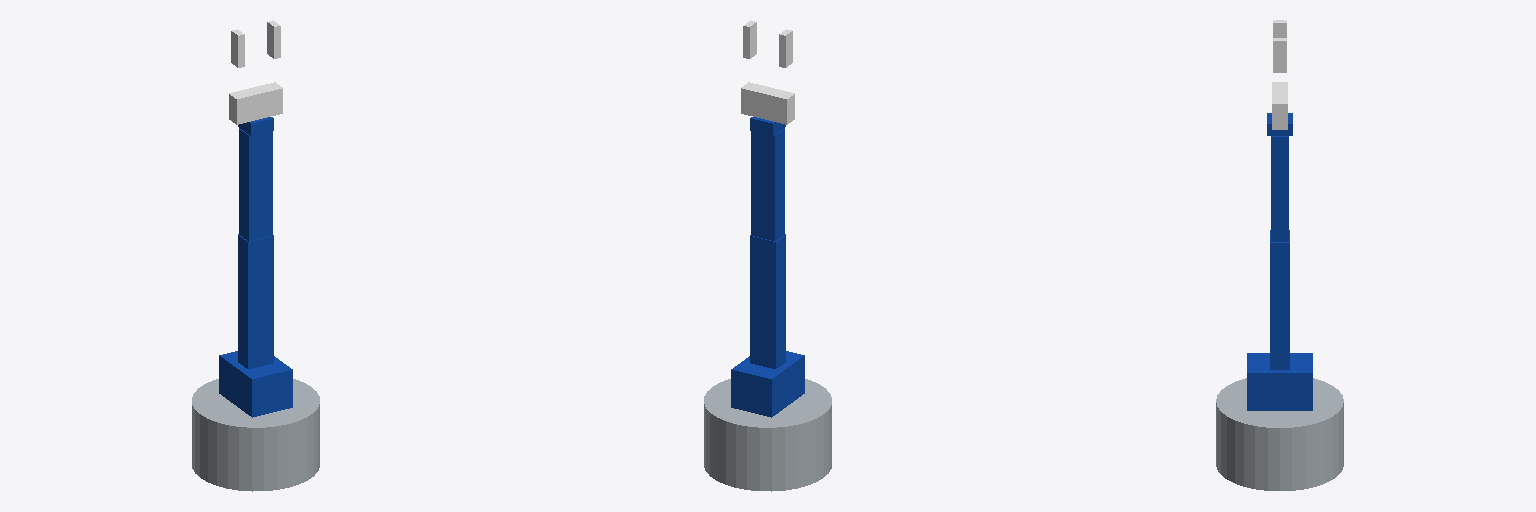
robot.urdf — servo_kol:
<?xml version="1.0"?>
<!-- urdf_uret.py ile üretildi; elle düzenleme. Ölçü ve kütleler TAHMİN. -->
<robot name="servo_kol">
  <material name="mavi"><color rgba="0.12 0.37 0.75 1"/></material>
  <material name="gri"><color rgba="0.73 0.76 0.78 1"/></material>
  <material name="beyaz"><color rgba="0.94 0.94 0.94 1"/></material>
  <material name="turuncu"><color rgba="0.85 0.4 0.1 1"/></material>

  <link name="taban">
    <visual>
      <origin xyz="0 0 0.03" rpy="0 0 0"/>
      <geometry><cylinder radius="0.055" length="0.06"/></geometry>
      <material name="gri"/>
    </visual>
    <collision>
      <origin xyz="0 0 0.03" rpy="0 0 0"/>
      <geometry><box size="0.11 0.11 0.06"/></geometry>
    </collision>
    <inertial>
      <origin xyz="0 0 0.03" rpy="0 0 0"/>
      <mass value="0.2"/>
      <inertia ixx="0.000261667" ixy="0" ixz="0" iyy="0.000261667" iyz="0" izz="0.000403333"/>
    </inertial>
  </link>

  <joint name="j1_govde" type="revolute">
    <parent link="taban"/>
    <child link="govde"/>
    <origin xyz="0 0 0" rpy="0 0 0"/>
    <axis xyz="0 0 1"/>
    <limit lower="-1.5708" upper="1.5708" effort="0.921825" velocity="1.16355"/>
  </joint>

  <link name="govde">
    <visual>
      <origin xyz="0 0 0.078" rpy="0 0 0"/>
      <geometry><box size="0.04 0.056 0.036"/></geometry>
      <material name="mavi"/>
    </visual>
    <collision>
      <origin xyz="0 0 0.078" rpy="0 0 0"/>
      <geometry><box size="0.04 0.056 0.036"/></geometry>
    </collision>
    <inertial>
      <origin xyz="0 0 0.078" rpy="0 0 0"/>
      <mass value="0.105"/>
      <inertia ixx="3.878e-05" ixy="0" ixz="0" iyy="2.534e-05" iyz="0" izz="4.144e-05"/>
    </inertial>
  </link>

  <joint name="j2_omuz" type="revolute">
    <parent link="govde"/>
    <child link="ust_kol"/>
    <origin xyz="0 0 0.096" rpy="0 0 0"/>
    <axis xyz="0 1 0"/>
    <limit lower="-1.309" upper="1.309" effort="0.921825" velocity="1.16355"/>
  </joint>

  <link name="ust_kol">
    <visual>
      <origin xyz="0 0 0.06" rpy="0 0 0"/>
      <geometry><box size="0.026 0.018 0.12"/></geometry>
      <material name="mavi"/>
    </visual>
    <collision>
      <origin xyz="0 0 0.06" rpy="0 0 0"/>
      <geometry><box size="0.026 0.018 0.12"/></geometry>
    </collision>
    <inertial>
      <origin xyz="0 0 0.06" rpy="0 0 0"/>
      <mass value="0.121"/>
      <inertia ixx="0.000148467" ixy="0" ixz="0" iyy="0.000152016" iyz="0" izz="1.00833e-05"/>
    </inertial>
  </link>

  <joint name="j3_dirsek" type="revolute">
    <parent link="ust_kol"/>
    <child link="on_kol"/>
    <origin xyz="0 0 0.12" rpy="0 0 0"/>
    <axis xyz="0 1 0"/>
    <limit lower="-1.39626" upper="1.39626" effort="0.921825" velocity="1.16355"/>
  </joint>

  <link name="on_kol">
    <visual>
      <origin xyz="0 0 0.05" rpy="0 0 0"/>
      <geometry><box size="0.024 0.016 0.1"/></geometry>
      <material name="mavi"/>
    </visual>
    <collision>
      <origin xyz="0 0 0.05" rpy="0 0 0"/>
      <geometry><box size="0.024 0.016 0.1"/></geometry>
    </collision>
    <inertial>
      <origin xyz="0 0 0.05" rpy="0 0 0"/>
      <mass value="0.051"/>
      <inertia ixx="4.3588e-05" ixy="0" ixz="0" iyy="4.4948e-05" iyz="0" izz="3.536e-06"/>
    </inertial>
  </link>

  <joint name="j5_bilek_egim" type="revolute">
    <parent link="on_kol"/>
    <child link="bilek"/>
    <origin xyz="0 0 0.1" rpy="0 0 0"/>
    <axis xyz="0 1 0"/>
    <limit lower="-1.5708" upper="1.5708" effort="0.11768" velocity="1.16355"/>
  </joint>

  <link name="bilek">
    <visual>
      <origin xyz="0 0 0.006" rpy="0 0 0"/>
      <geometry><box size="0.022 0.022 0.012"/></geometry>
      <material name="mavi"/>
    </visual>
    <collision>
      <origin xyz="0 0 0.006" rpy="0 0 0"/>
      <geometry><box size="0.022 0.022 0.012"/></geometry>
    </collision>
    <inertial>
      <origin xyz="0 0 0.006" rpy="0 0 0"/>
      <mass value="0.01"/>
      <inertia ixx="5.23333e-07" ixy="0" ixz="0" iyy="5.23333e-07" iyz="0" izz="8.06667e-07"/>
    </inertial>
  </link>

  <joint name="j4_bilek_donus" type="revolute">
    <parent link="bilek"/>
    <child link="tutucu_govde"/>
    <origin xyz="0 0 0" rpy="0 0 0"/>
    <axis xyz="0 0 1"/>
    <limit lower="-1.5708" upper="1.5708" effort="0.11768" velocity="1.16355"/>
  </joint>

  <link name="tutucu_govde">
    <visual>
      <origin xyz="0 0 0.024" rpy="0 0 0"/>
      <geometry><box size="0.046 0.014 0.024"/></geometry>
      <material name="beyaz"/>
    </visual>
    <collision>
      <origin xyz="0 0 0.024" rpy="0 0 0"/>
      <geometry><box size="0.046 0.014 0.024"/></geometry>
    </collision>
    <inertial>
      <origin xyz="0 0 0.024" rpy="0 0 0"/>
      <mass value="0.018"/>
      <inertia ixx="1.158e-06" ixy="0" ixz="0" iyy="4.038e-06" iyz="0" izz="3.468e-06"/>
    </inertial>
  </link>

  <link name="parmak_sag">
    <visual>
      <origin xyz="0 0 0.01525" rpy="0 0 0"/>
      <geometry><box size="0.006 0.012 0.0305"/></geometry>
      <material name="beyaz"/>
    </visual>
    <collision>
      <origin xyz="0 0 0.01525" rpy="0 0 0"/>
      <geometry><box size="0.006 0.012 0.0305"/></geometry>
    </collision>
    <inertial>
      <origin xyz="0 0 0.01525" rpy="0 0 0"/>
      <mass value="0.007"/>
      <inertia ixx="6.26646e-07" ixy="0" ixz="0" iyy="5.63646e-07" iyz="0" izz="1.05e-07"/>
    </inertial>
  </link>

  <joint name="tutucu" type="prismatic">
    <parent link="tutucu_govde"/>
    <child link="parmak_sag"/>
    <origin xyz="0 0 0.0645" rpy="0 0 0"/>
    <axis xyz="1 0 0"/>
    <limit lower="0.0005" upper="0.035" effort="0.11768" velocity="0.05"/>
  </joint>

  <link name="parmak_sol">
    <visual>
      <origin xyz="0 0 0.01525" rpy="0 0 0"/>
      <geometry><box size="0.006 0.012 0.0305"/></geometry>
      <material name="beyaz"/>
    </visual>
    <collision>
      <origin xyz="0 0 0.01525" rpy="0 0 0"/>
      <geometry><box size="0.006 0.012 0.0305"/></geometry>
    </collision>
    <inertial>
      <origin xyz="0 0 0.01525" rpy="0 0 0"/>
      <mass value="0.007"/>
      <inertia ixx="6.26646e-07" ixy="0" ixz="0" iyy="5.63646e-07" iyz="0" izz="1.05e-07"/>
    </inertial>
  </link>

  <joint name="tutucu_ayna" type="prismatic">
    <parent link="tutucu_govde"/>
    <child link="parmak_sol"/>
    <origin xyz="0 0 0.0645" rpy="0 0 0"/>
    <axis xyz="1 0 0"/>
    <limit lower="-0.035" upper="-0.0005" effort="0.11768" velocity="0.05"/>
    <mimic joint="tutucu" multiplier="-1" offset="0"/>
  </joint>

  <link name="uc"/>
  <joint name="uc_sabit" type="fixed">
    <parent link="tutucu_govde"/>
    <child link="uc"/>
    <origin xyz="0 0 0.095" rpy="0 0 0"/>
  </joint>

</robot>

--- Facts derived from the render (not from the file) ---
Views: 3 orthographic renders of the robot side by side, from view 1: azimuth 30°, elevation 25°; view 2: azimuth 150°, elevation 25°; view 3: azimuth 270°, elevation 25°.
Robot: servo_kol — 9 links, 8 joints (5 revolute, 2 prismatic, 1 fixed); root link taban; default pose: all joints at 0 but 2 set to mid-range because 0 is outside their limits (tutucu = 0.0177, tutucu_ayna = -0.0177).
Visible links, largest first — view 1: taban, ust_kol, on_kol, govde, tutucu_govde; view 2: taban, ust_kol, on_kol, govde, tutucu_govde; view 3: taban, govde, ust_kol, on_kol, tutucu_govde.
Link boxes in pixels (<box>): taban: <box>192,379,319,491</box>; ust_kol: <box>238,234,273,368</box>; on_kol: <box>239,128,272,241</box>; govde: <box>219,351,292,417</box>; tutucu_govde: <box>229,82,282,124</box>; taban: <box>704,379,831,491</box>; ust_kol: <box>750,234,785,368</box>; on_kol: <box>751,128,784,241</box>; govde: <box>731,351,804,417</box>; tutucu_govde: <box>741,82,794,124</box>; taban: <box>1216,378,1343,490</box>; govde: <box>1247,353,1312,410</box>; ust_kol: <box>1270,230,1289,369</box>; on_kol: <box>1271,136,1288,241</box>; tutucu_govde: <box>1272,82,1287,129</box>.
Bounding box of the posed robot: 0.11 × 0.11 × 0.411 m (x, y, z).
Geometry: primitives only (box / cylinder / sphere), no mesh files.
